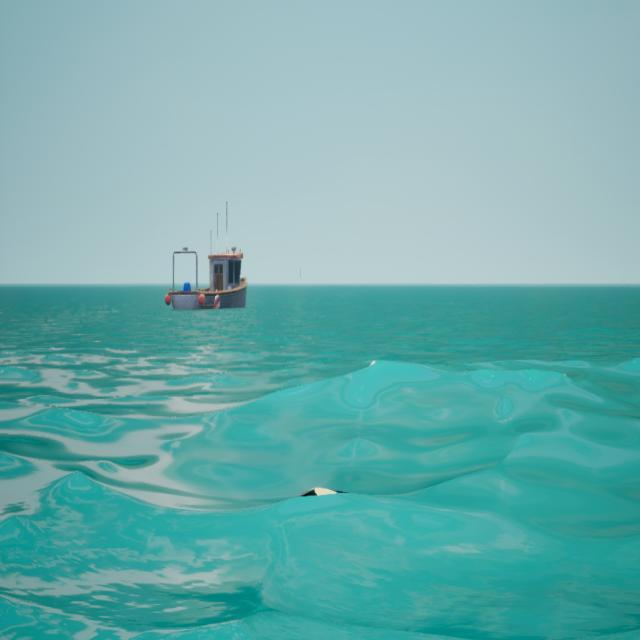ship: (156, 190, 252, 328)
